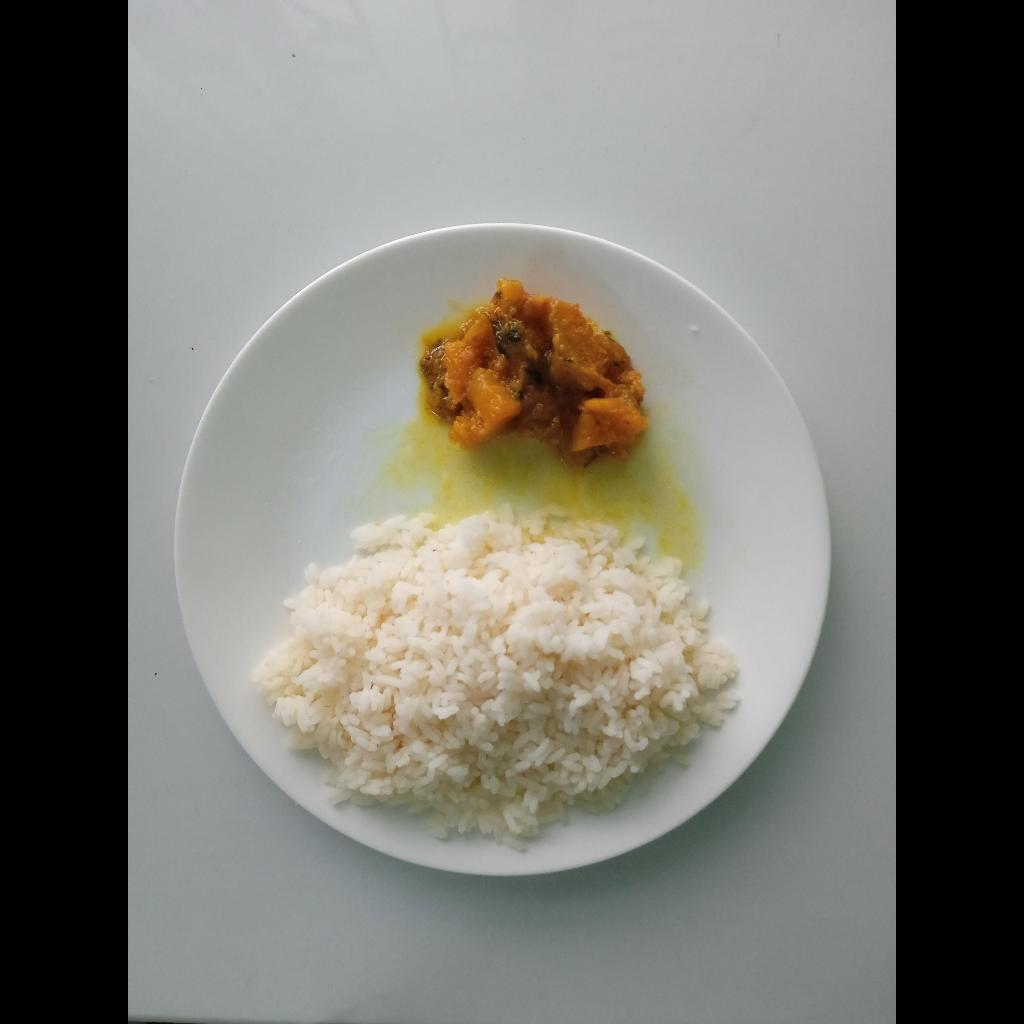kumra-vaji: (424, 284, 637, 442)
rice: (262, 516, 734, 846)
